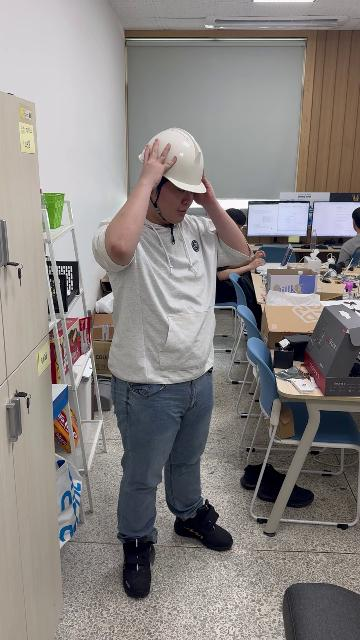helmet_worn: (137, 127, 207, 192)
shoe_not_worn: (255, 466, 312, 506), (241, 462, 273, 491)
shoe_worn: (173, 500, 232, 551), (121, 537, 156, 598)
vest_not_worn: (103, 222, 219, 382)
